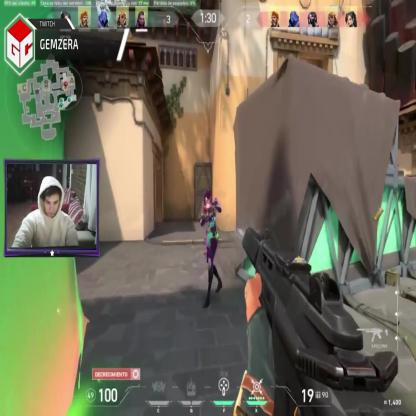enemy: (199, 189, 223, 309)
enemy_head: (204, 191, 211, 209)
